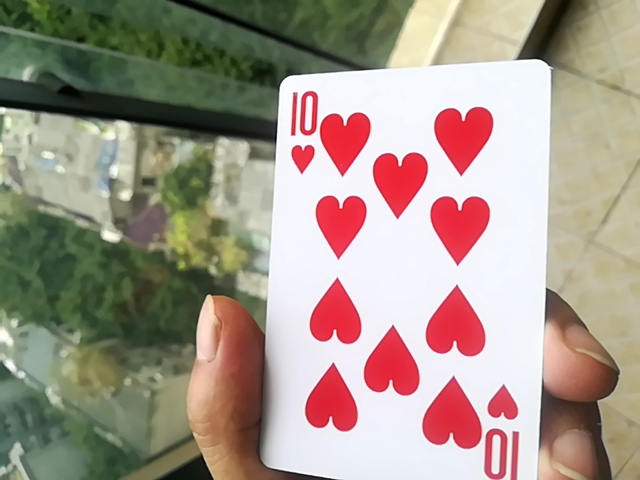hx 10: (261, 60, 553, 479)
